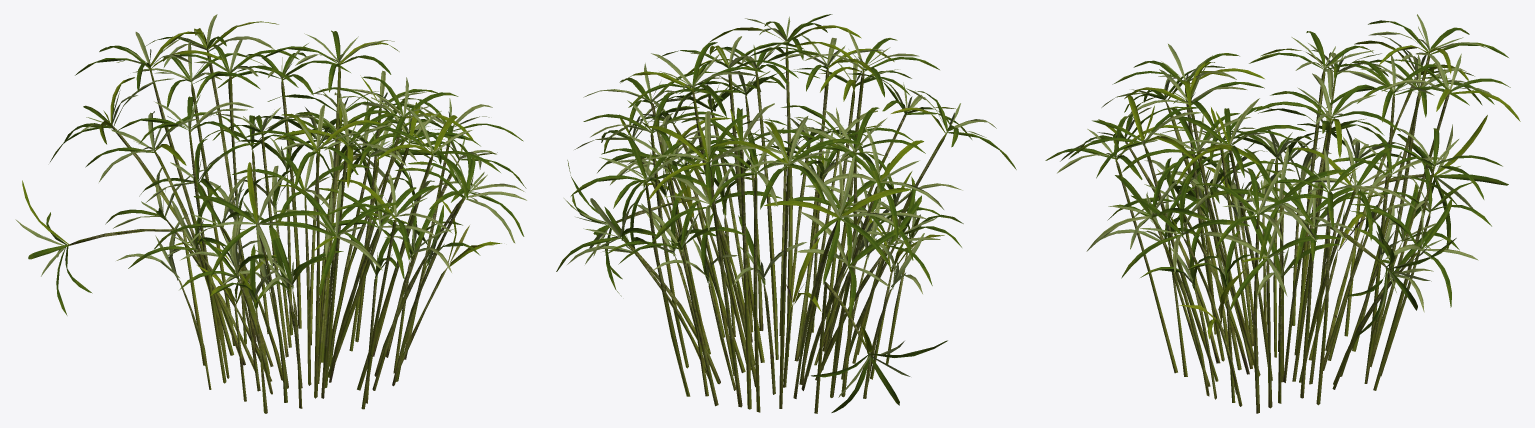
Rendered from cargo_plant.glb.
3 renders of one model, left to right at view 1: azimuth 30°, elevation 25°; view 2: azimuth 150°, elevation 25°; view 3: azimuth 270°, elevation 25°, orthographic. The views are drawn at different scales.
Visible parts, largest first — view 1: KB3D_AOE_PropPlant_B_Main; view 2: KB3D_AOE_PropPlant_B_Main; view 3: KB3D_AOE_PropPlant_B_Main.
Part boxes in pixels (<box>): KB3D_AOE_PropPlant_B_Main: <box>15,14,526,413</box>; KB3D_AOE_PropPlant_B_Main: <box>556,14,1016,413</box>; KB3D_AOE_PropPlant_B_Main: <box>1045,14,1520,413</box>.
Size of the model in its own units: 1.5 by 1.04 by 1.46.
Materials: 1 (1 with a texture image).
